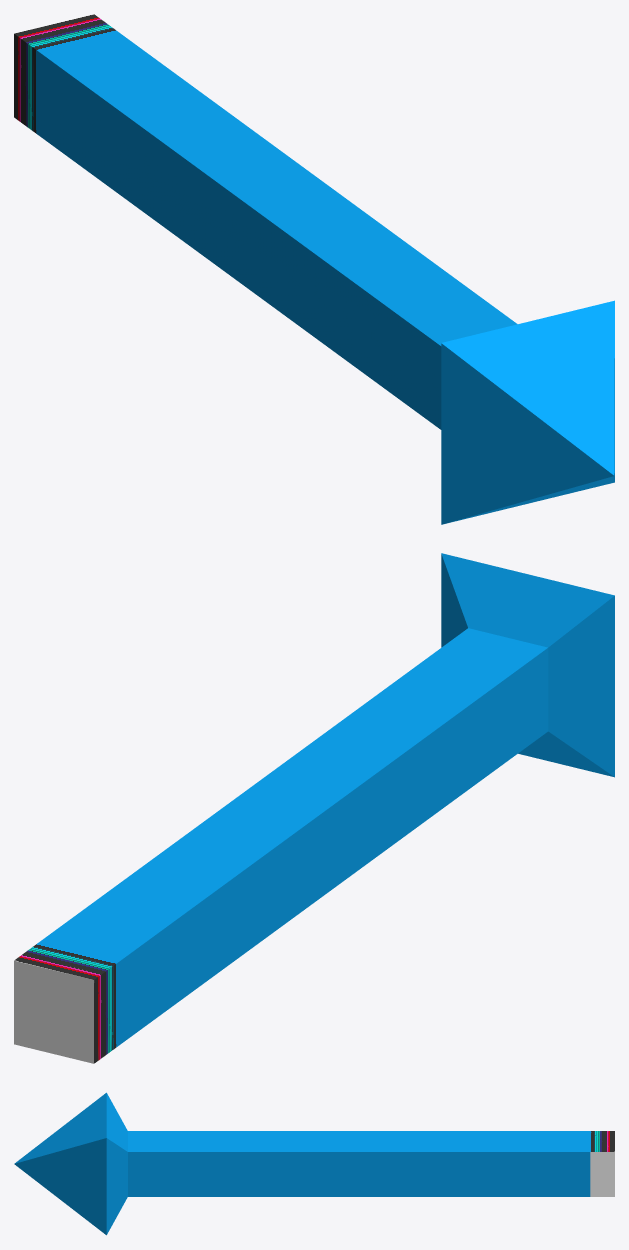
Rendered from axis_forward.glb.
3 views of the same model, one above another, from view 1: azimuth 30°, elevation 25°; view 2: azimuth 150°, elevation 25°; view 3: azimuth 270°, elevation 25° (orthographic). The views are drawn at different scales.
Visible parts, largest first — view 1: axis.Forward; view 2: axis.Forward; view 3: axis.Forward.
Boxes of the visible parts, x1=… form: axis.Forward: x1=14, y1=14, x2=614, y2=524; axis.Forward: x1=14, y1=553, x2=614, y2=1063; axis.Forward: x1=14, y1=1092, x2=614, y2=1235.
Size of the model in its own units: 0.2328 by 0.2328 by 1.3.
1 material, 1 textured.
